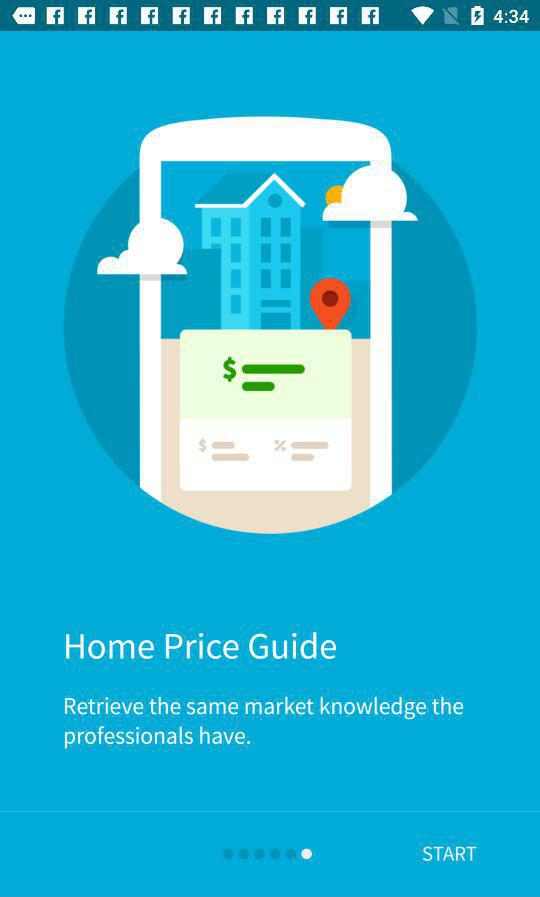Image: (63, 116, 478, 536)
PageIndicator: (222, 846, 313, 862)
Text: (64, 695, 465, 750), (65, 630, 339, 662), (422, 845, 478, 863)
UpperTaskBar: (1, 1, 540, 33)
